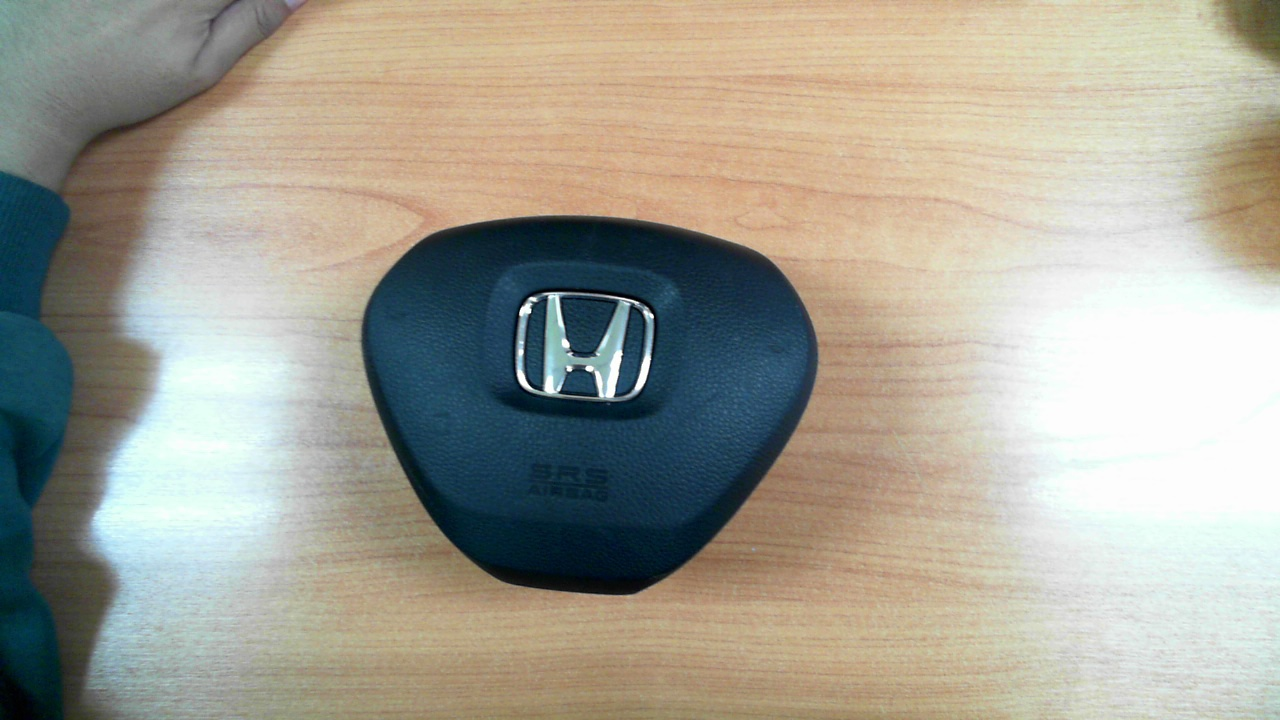Airbag: (360, 214, 819, 596)
Honda: (515, 291, 655, 402)
